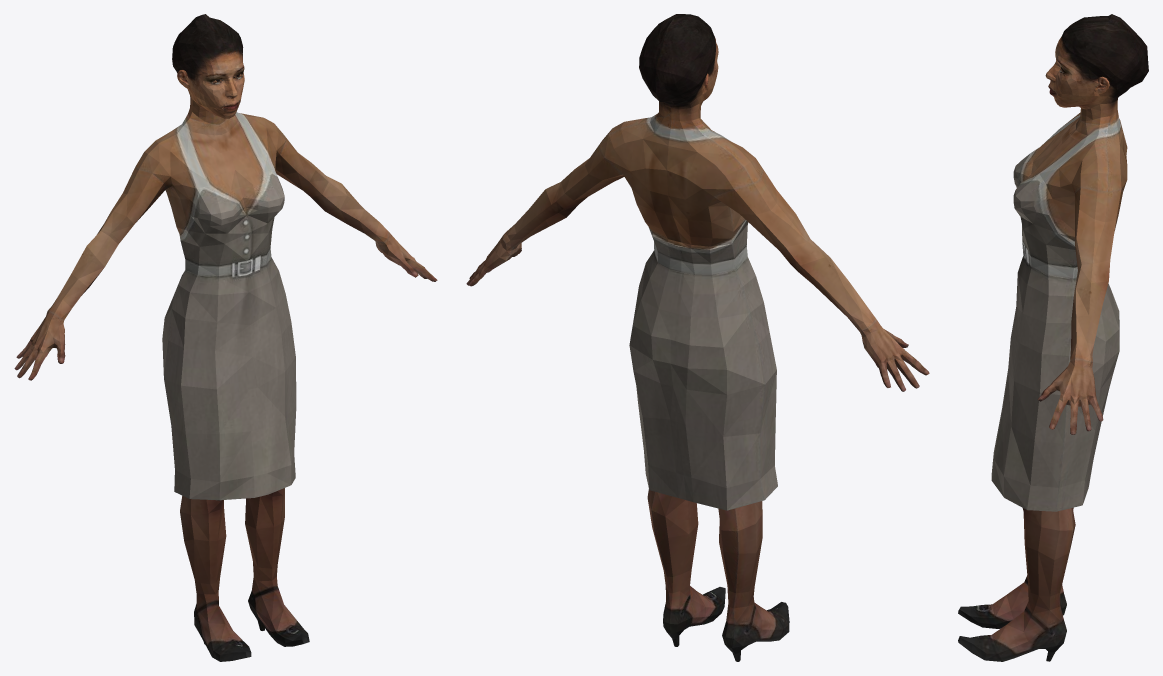
Rendered from npc_cpros2l.glb.
The picture shows the model from 3 angles, left to right: view 1: azimuth 30°, elevation 25°; view 2: azimuth 150°, elevation 25°; view 3: azimuth 270°, elevation 25°; orthographic projection. The views are drawn at different scales.
Visible parts, largest first — view 1: npc; view 2: npc; view 3: npc.
Part boxes in pixels (x1=…): npc: x1=14, y1=14, x2=437, y2=661; npc: x1=466, y1=14, x2=929, y2=661; npc: x1=958, y1=14, x2=1148, y2=661.
Size of the model in its own units: 0.7147 by 1 by 0.2739.
Materials: 1 (1 with a texture image).
